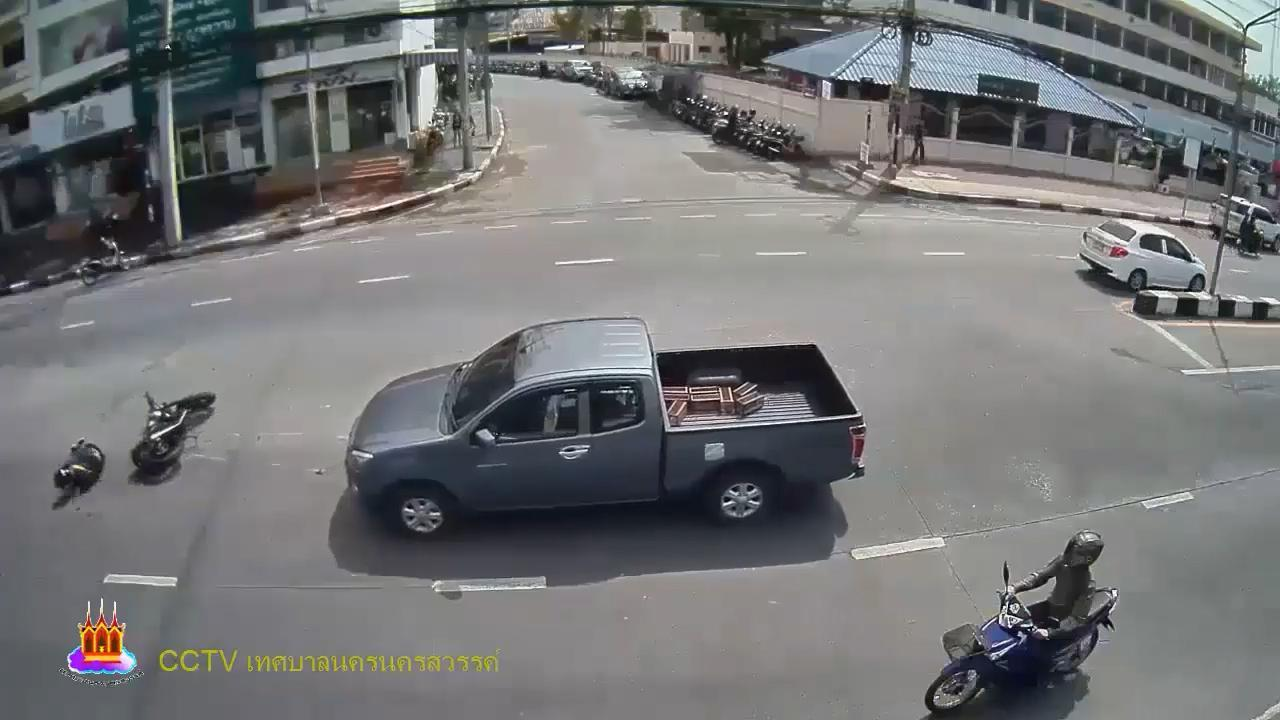accident: (50, 437, 109, 498)
